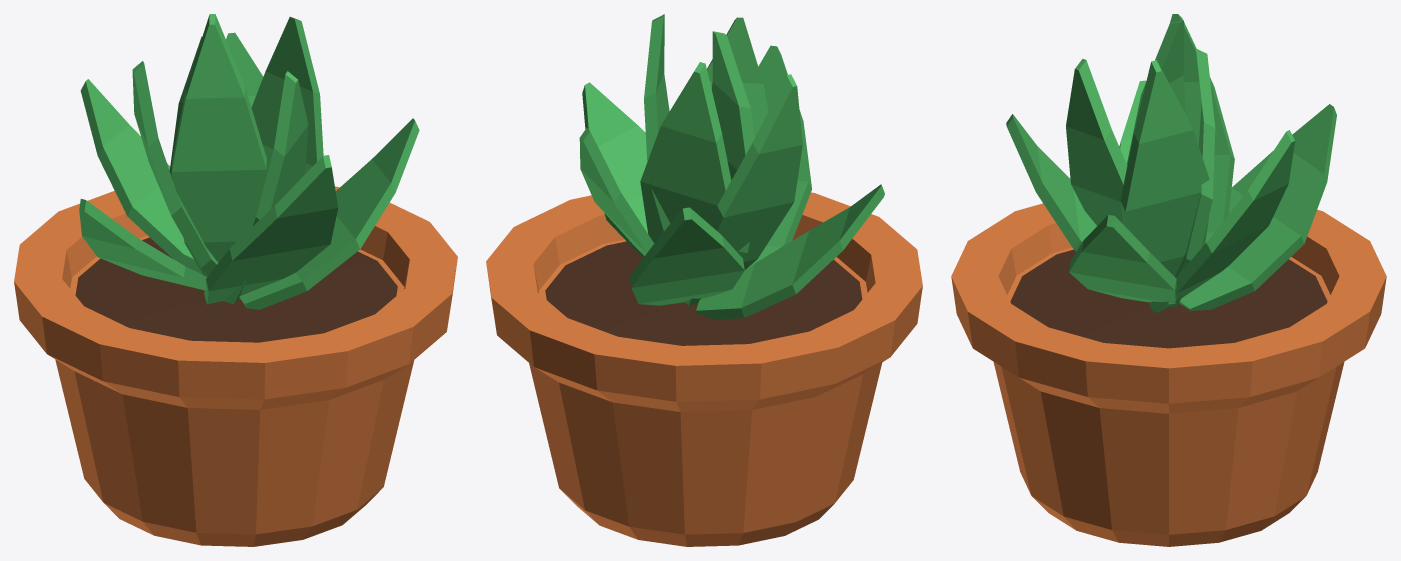
File: vaso1.fbx
3 views of the same model, side by side, from view 1: azimuth 30°, elevation 25°; view 2: azimuth 150°, elevation 25°; view 3: azimuth 270°, elevation 25° (orthographic). The views are drawn at different scales.
Parts seen in each view (by area): view 1: Vaso, Terra, Folha_05, Folha_06, Folha_08, Folha_02, Folha_09, Folha_04, Folha_07, Folha_03, Folha_10; view 2: Vaso, Terra, Folha_01, Folha_03, Folha_04, Folha_02, Folha_08, Folha_05, Folha_10, Folha_06, Folha_09, Folha_07; view 3: Vaso, Terra, Folha_09, Folha_02, Folha_07, Folha_10, Folha_08, Folha_06, Folha_03, Folha_01, Folha_05, Folha_04.
Boxes of the visible parts, left/top/right/bottom form: Vaso: left=14, top=186, right=457, bottom=546; Terra: left=75, top=237, right=397, bottom=342; Folha_05: left=171, top=14, right=266, bottom=276; Folha_06: left=204, top=155, right=338, bottom=304; Folha_08: left=239, top=118, right=419, bottom=309; Folha_02: left=80, top=79, right=202, bottom=274; Folha_09: left=251, top=17, right=323, bottom=176; Folha_04: left=79, top=199, right=207, bottom=290; Folha_07: left=223, top=71, right=308, bottom=304; Folha_03: left=132, top=61, right=217, bottom=275; Folha_10: left=226, top=32, right=263, bottom=107; Vaso: left=486, top=192, right=922, bottom=546; Terra: left=545, top=241, right=862, bottom=345; Folha_01: left=640, top=62, right=731, bottom=243; Folha_03: left=685, top=74, right=802, bottom=305; Folha_04: left=696, top=184, right=884, bottom=319; Folha_02: left=629, top=207, right=744, bottom=305; Folha_08: left=582, top=82, right=647, bottom=257; Folha_05: left=711, top=31, right=754, bottom=260; Folha_10: left=579, top=128, right=654, bottom=255; Folha_06: left=748, top=45, right=811, bottom=267; Folha_09: left=644, top=14, right=670, bottom=231; Folha_07: left=707, top=17, right=768, bottom=137; Vaso: left=951, top=203, right=1386, bottom=546; Terra: left=1010, top=249, right=1327, bottom=348; Folha_09: left=1120, top=60, right=1209, bottom=303; Folha_02: left=1179, top=104, right=1336, bottom=310; Folha_07: left=1066, top=58, right=1127, bottom=225; Folha_10: left=1149, top=130, right=1294, bottom=312; Folha_08: left=1069, top=215, right=1176, bottom=304; Folha_06: left=1006, top=114, right=1096, bottom=251; Folha_03: left=1169, top=14, right=1234, bottom=243; Folha_01: left=1168, top=48, right=1215, bottom=307; Folha_05: left=1127, top=20, right=1185, bottom=164; Folha_04: left=1119, top=80, right=1146, bottom=163.
Size of the model in its own units: 240 by 281 by 240.
